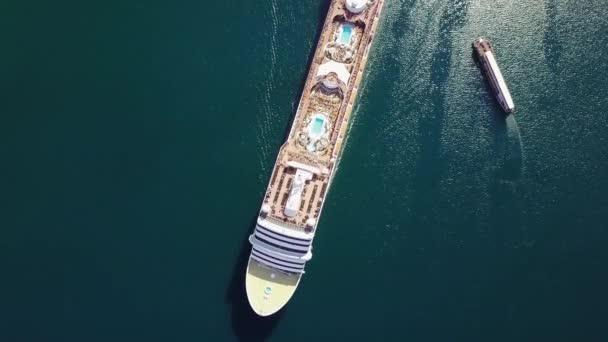Boat: (237, 23, 363, 329), (458, 28, 549, 140)
